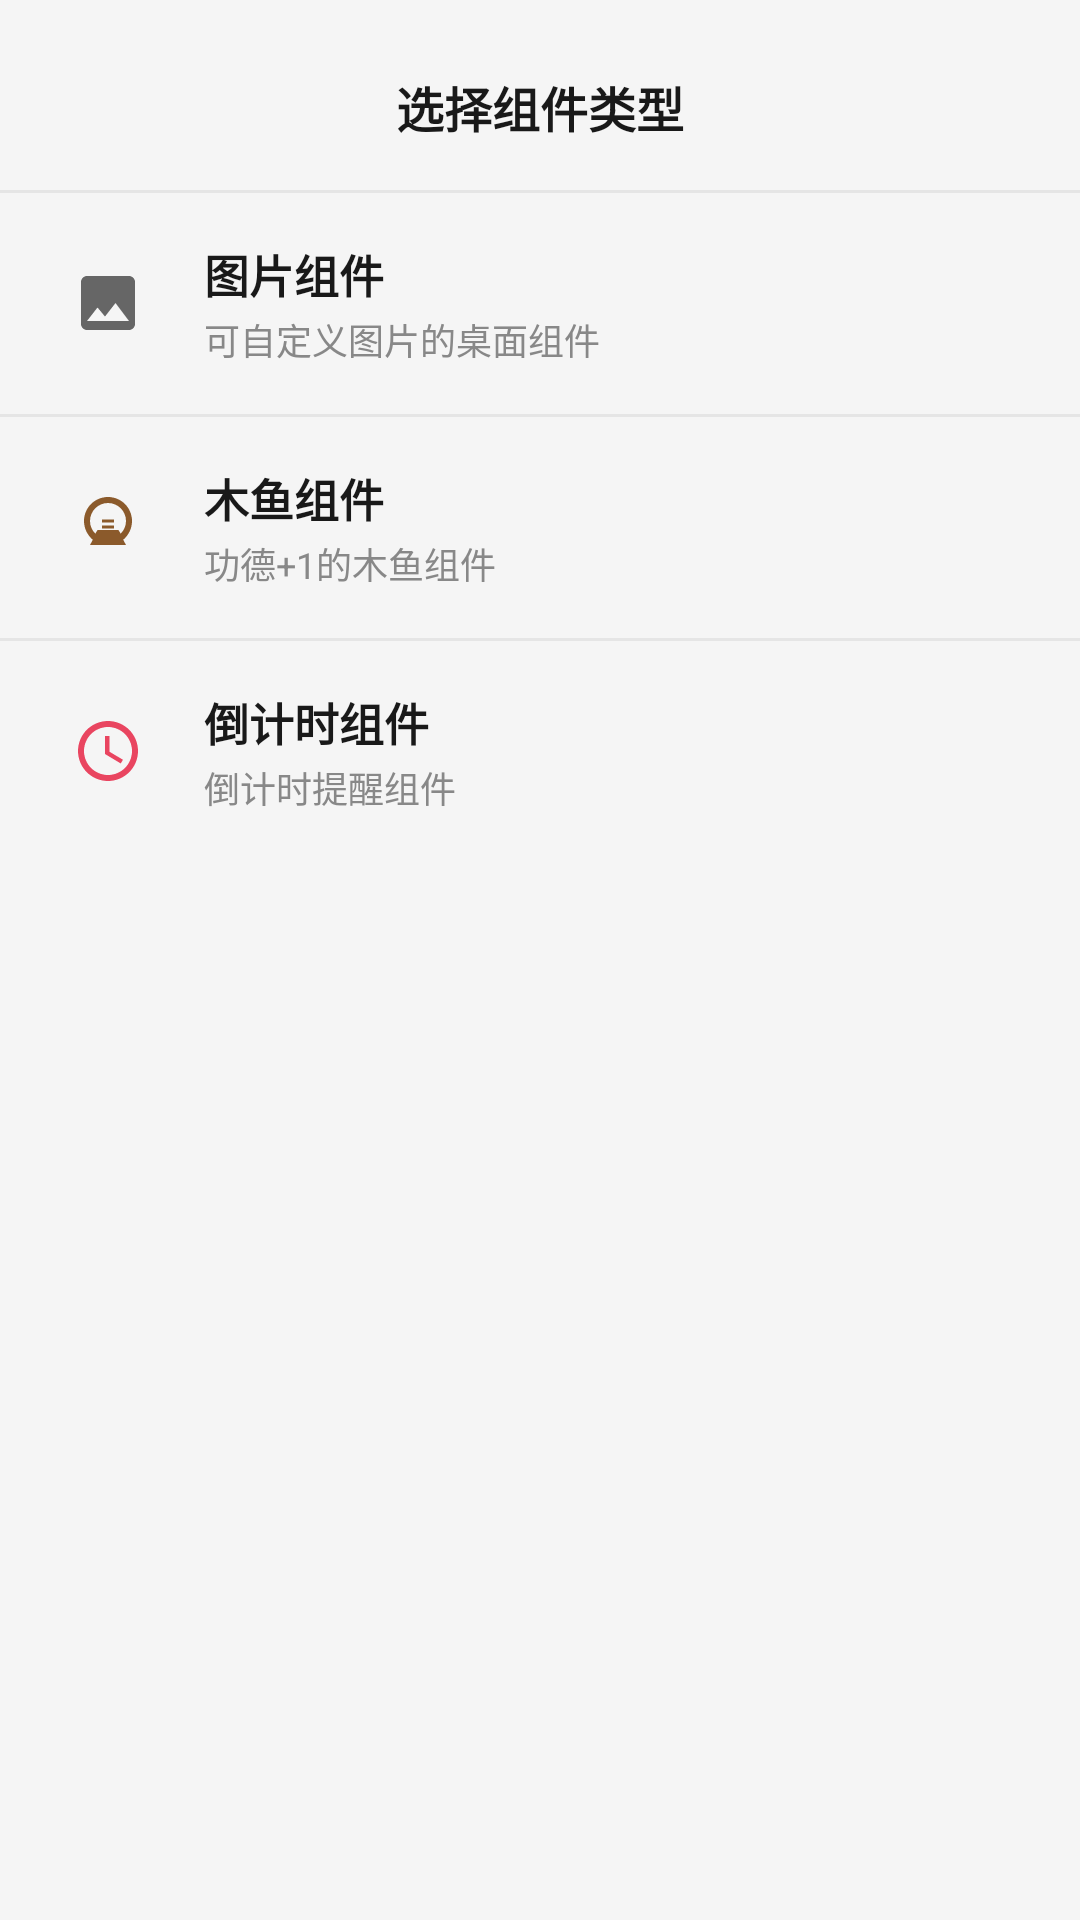

Locate icon controls on the screen. Image size 1080w x 1920h, boxes as (x1, y1, x2, y2).
countdown: (78, 721, 138, 781)
wooden fish: (84, 497, 132, 545)
